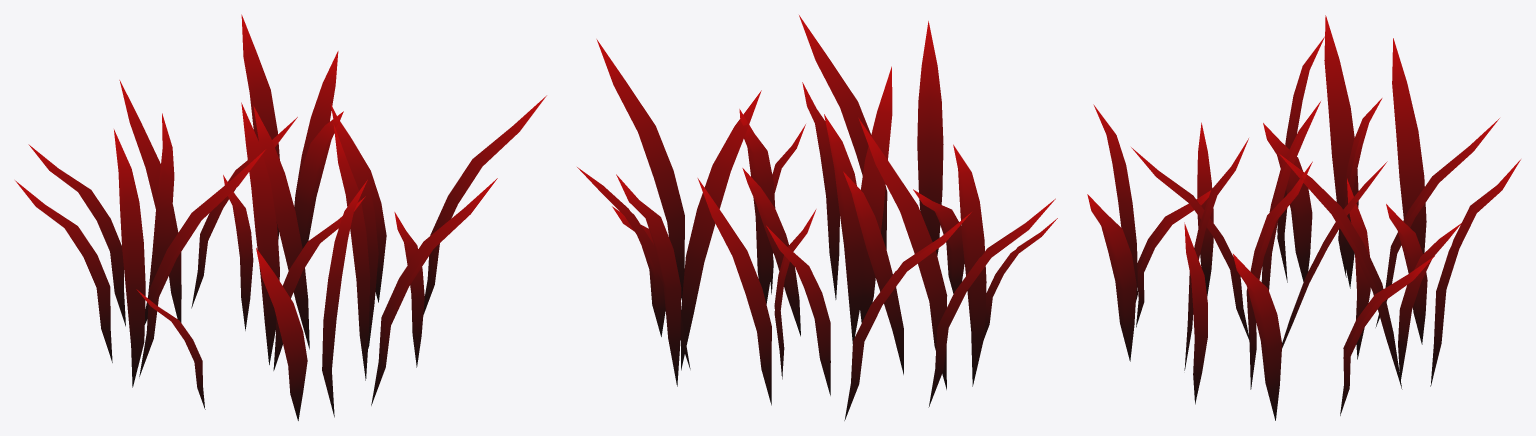
Rendered from grass.fbx.
3 views of the same model, side by side, from view 1: azimuth 30°, elevation 25°; view 2: azimuth 150°, elevation 25°; view 3: azimuth 270°, elevation 25° (orthographic). The views are drawn at different scales.
Parts seen in each view (by area): view 1: Grass; view 2: Grass; view 3: Grass.
Boxes of the visible parts, x1,y1,x2,y2 form: Grass: (15, 14, 546, 420); Grass: (577, 15, 1057, 420); Grass: (1087, 15, 1520, 420).
Bounding box in the file's own units: 4.91 × 2.42 × 3.77.
